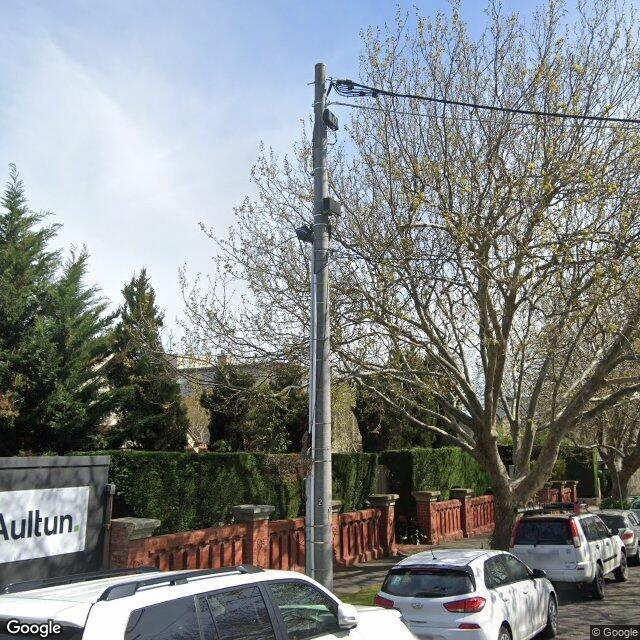concrete-pole: (308, 63, 331, 594)
